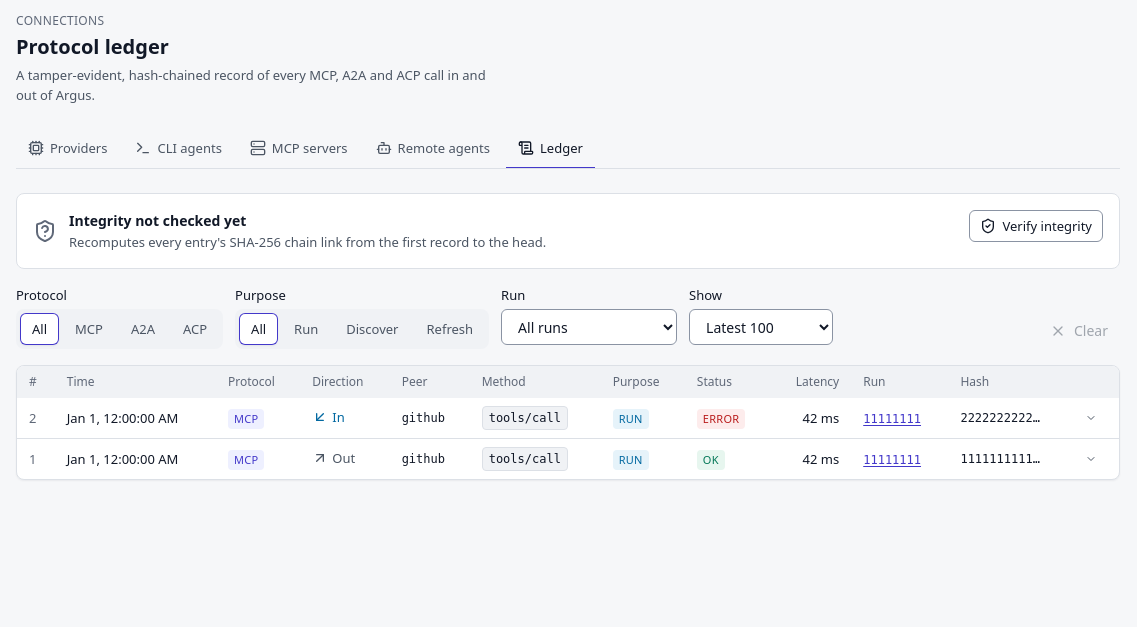
it: Ledger › lists entries with truncated hashes, expands full hashes, filters by protocol and reports a broken chain
Click the button named "Show hashes for entry 2" at (1091, 418), box [1075,402,1107,434]
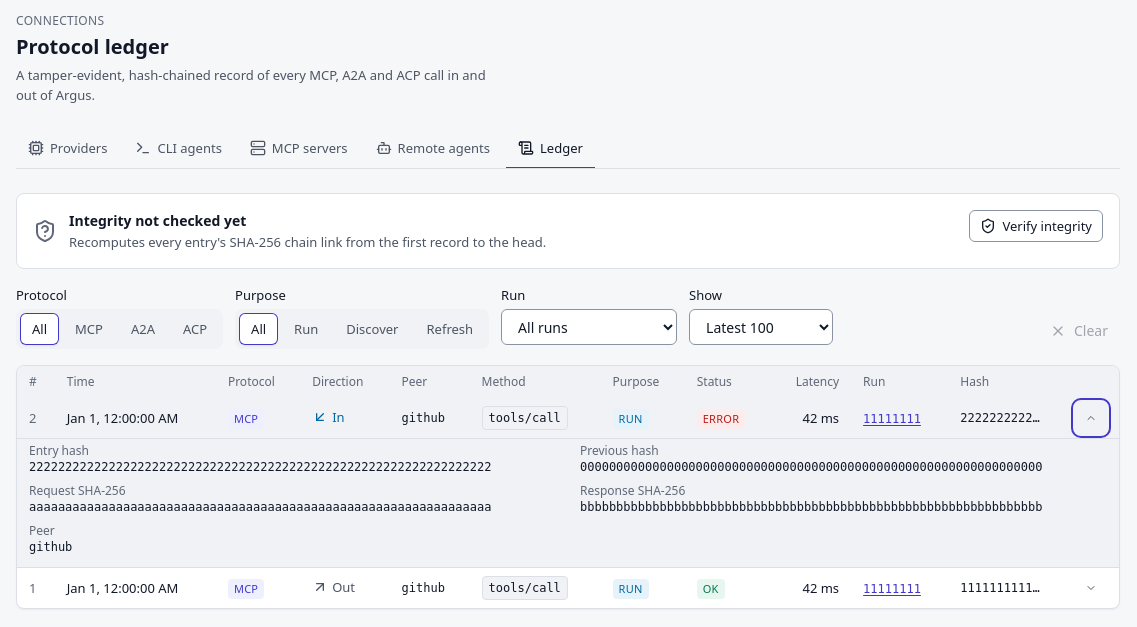
Click the radio button labelled "A2A" at (143, 329), box [119,313,167,345]
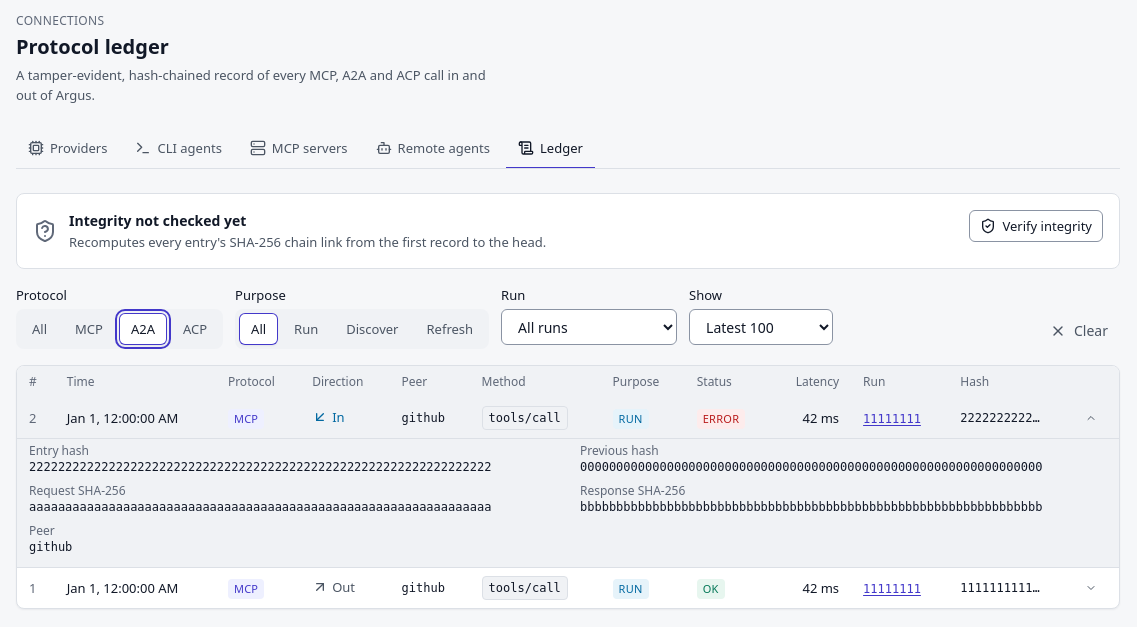
Click the button "Verify integrity" at (1036, 226), box [970,210,1103,242]
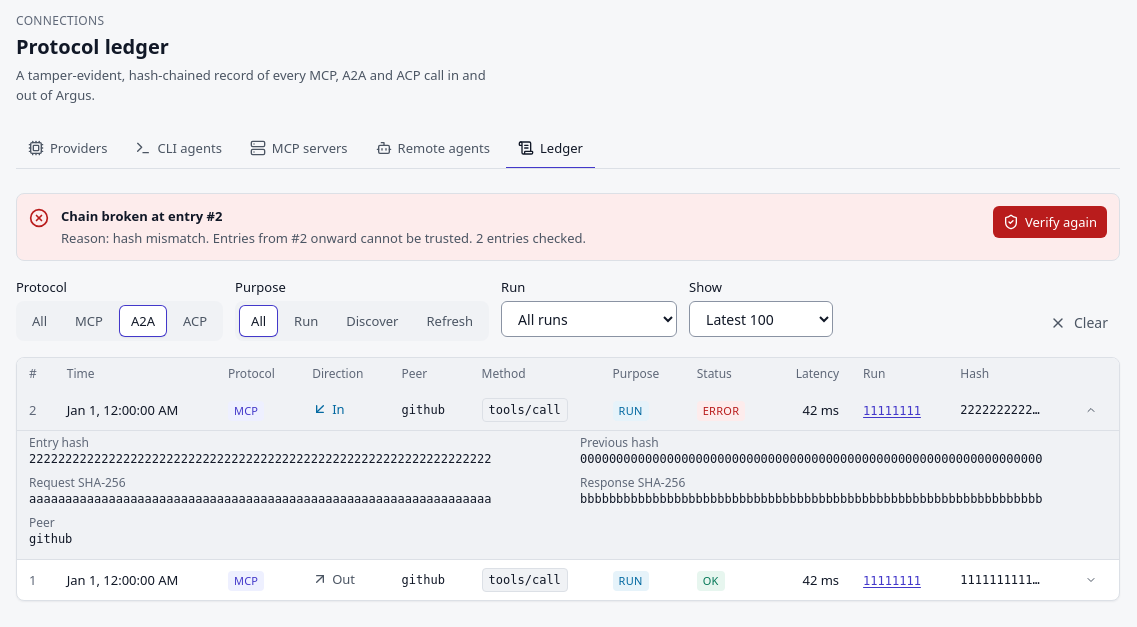
Now the text "Chain broken at entry #2" is shown, box [61,207,222,225]
Now the message shows "hash mismatch", box [113,229,206,247]
